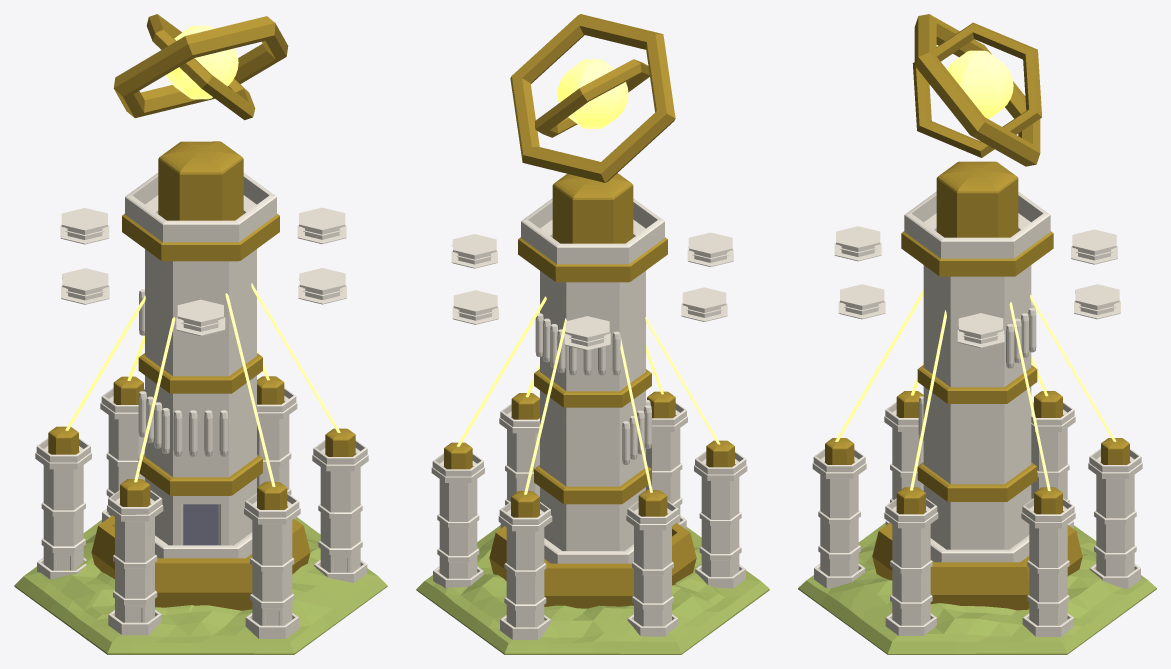
Rendered from hyperstructure.glb.
The picture shows the model from 3 angles, left to right: view 1: azimuth 30°, elevation 25°; view 2: azimuth 150°, elevation 25°; view 3: azimuth 270°, elevation 25°; orthographic projection. The views are drawn at different scales.
Visible parts, largest first — view 1: building, tiles, rec.2, rec, light; view 2: building, rec.2, tiles, light, rec; view 3: building, tiles, rec.2, rec, light.
Part boxes in pixels (box(x1,y1,x2,y2)): building: box(14, 141, 387, 654); tiles: box(60, 207, 346, 336); rec.2: box(113, 16, 288, 117); rec: box(146, 14, 255, 120); light: box(166, 25, 238, 99); building: box(416, 173, 769, 654); rec.2: box(510, 14, 675, 182); tiles: box(451, 232, 733, 350); light: box(557, 59, 628, 128); rec: box(535, 59, 649, 137); building: box(798, 161, 1156, 654); tiles: box(834, 226, 1120, 348); rec.2: box(914, 14, 1040, 166); rec: box(912, 22, 1041, 157); light: box(947, 50, 1013, 119).
Size of the model in its own units: 1.79 by 3.42 by 2.
Materials: 4 (4 with a texture image).
